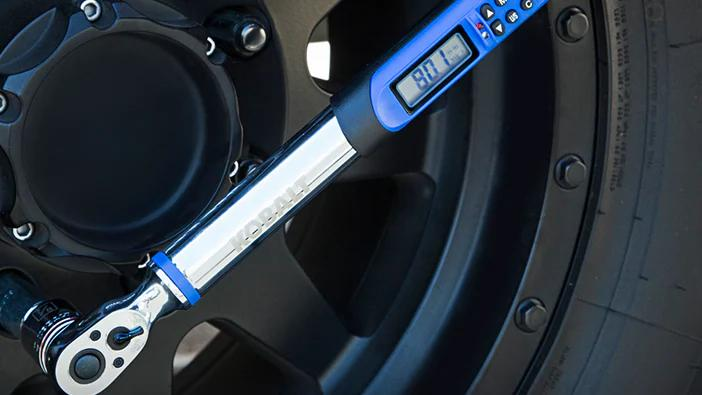Tool: (57, 302, 160, 395)
